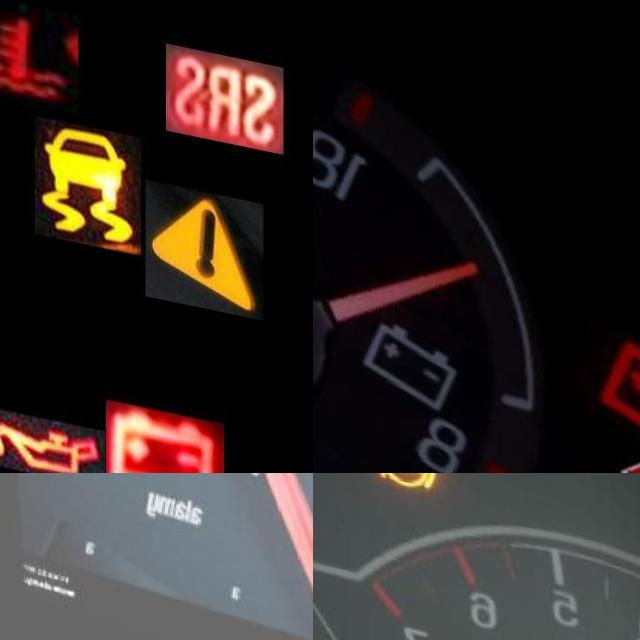Central Warning lamp: (146, 172, 264, 308)
Engine cooling system: (0, 0, 78, 110)
